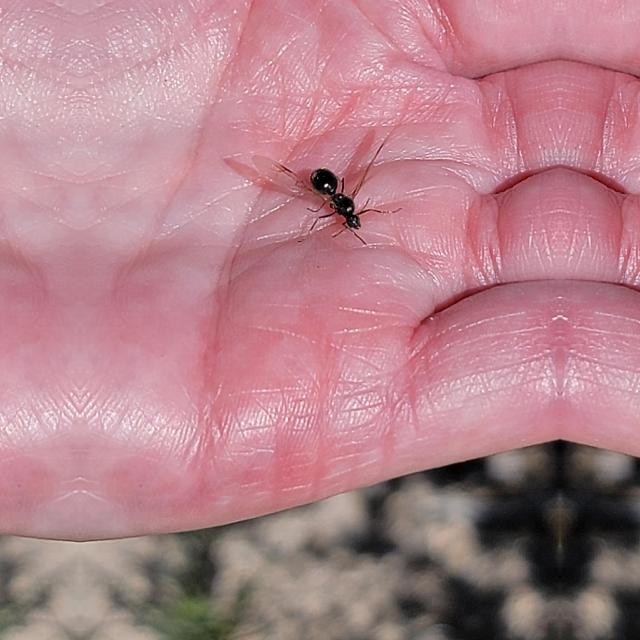Messor: (298, 163, 362, 234)
